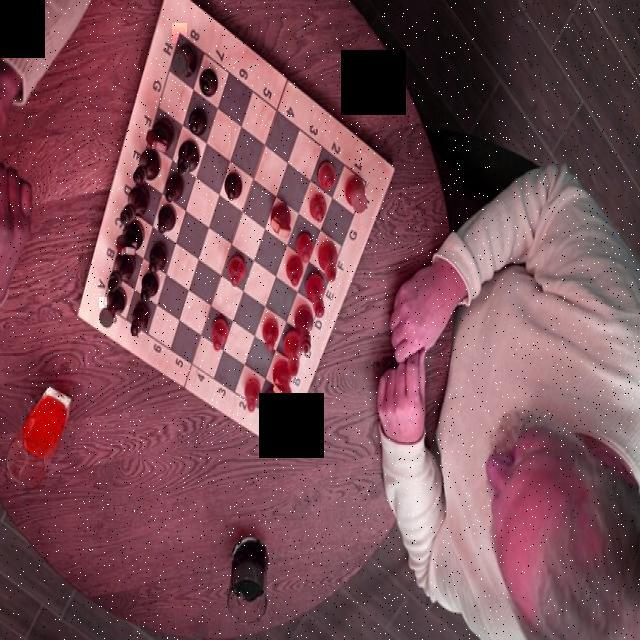chess-table-corners: (172, 23, 187, 43), (99, 297, 107, 308)
